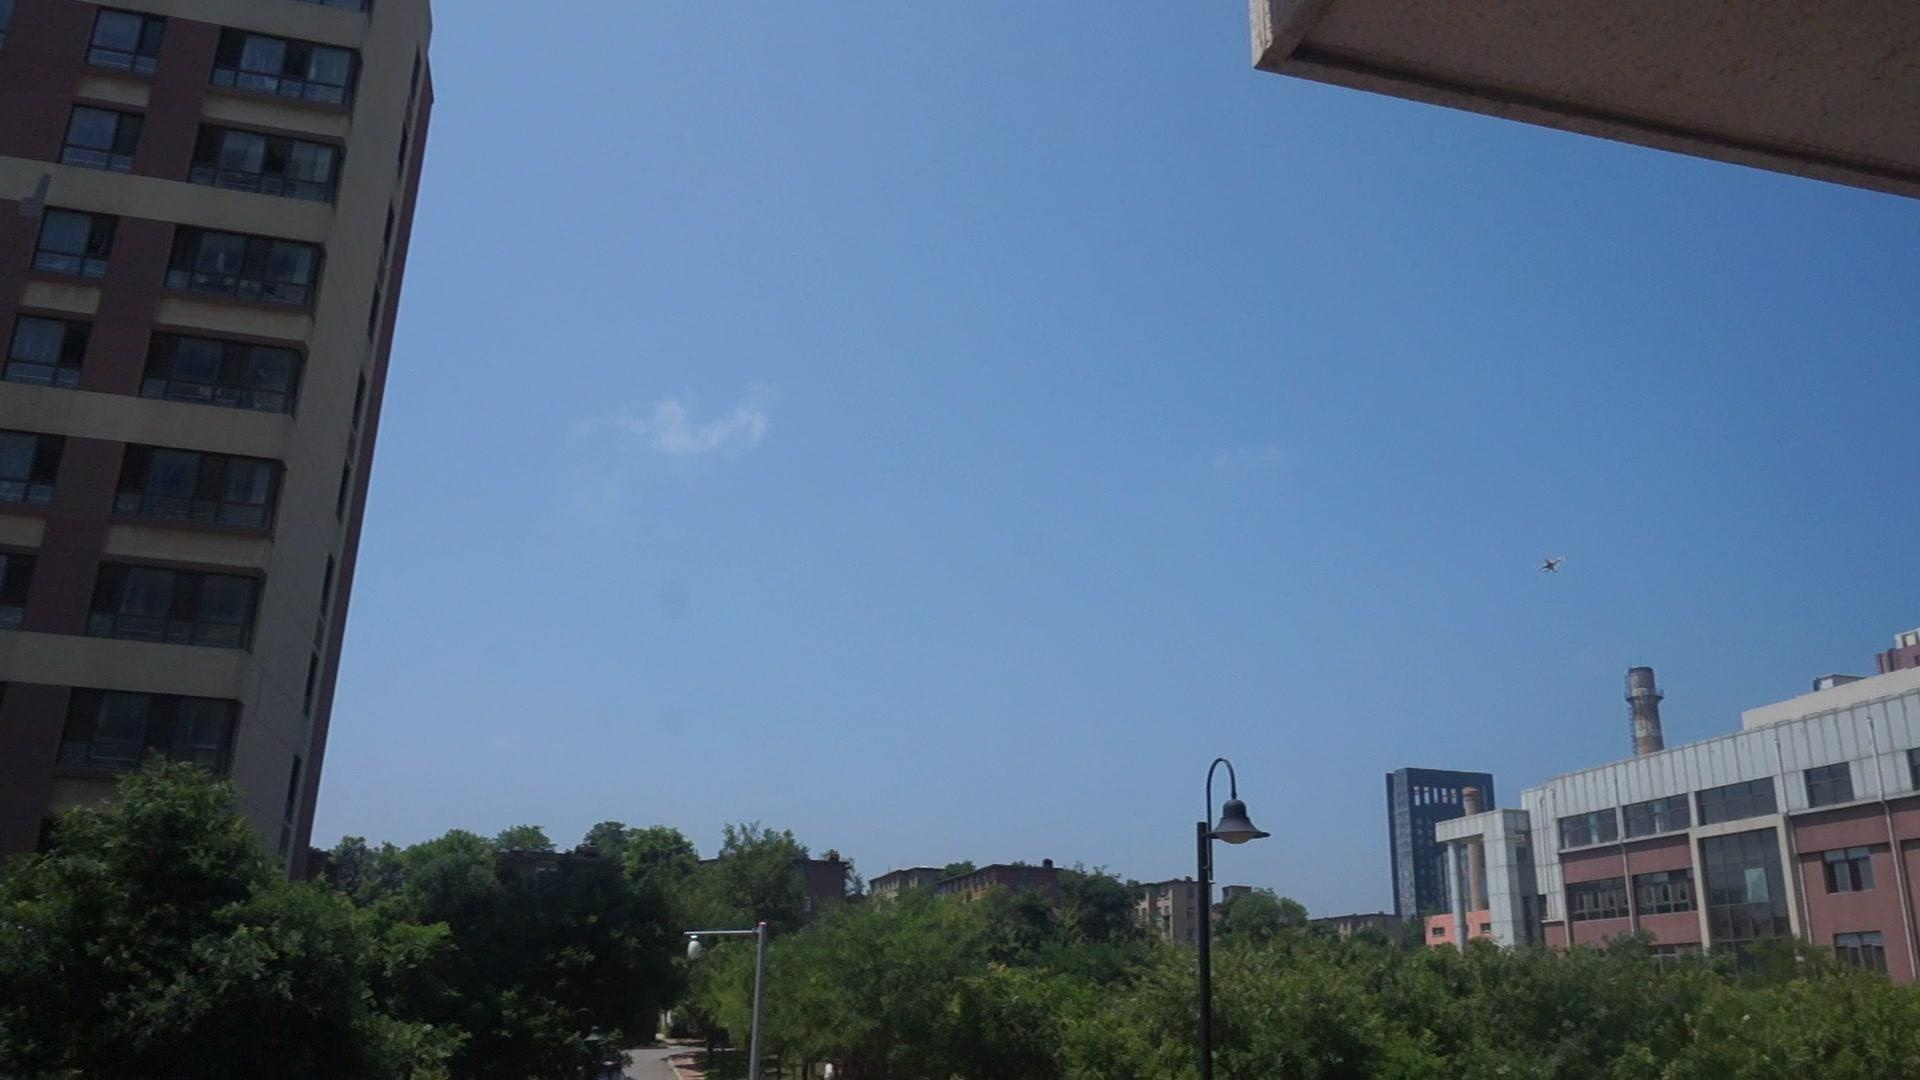UAV: (1536, 556, 1568, 575)
